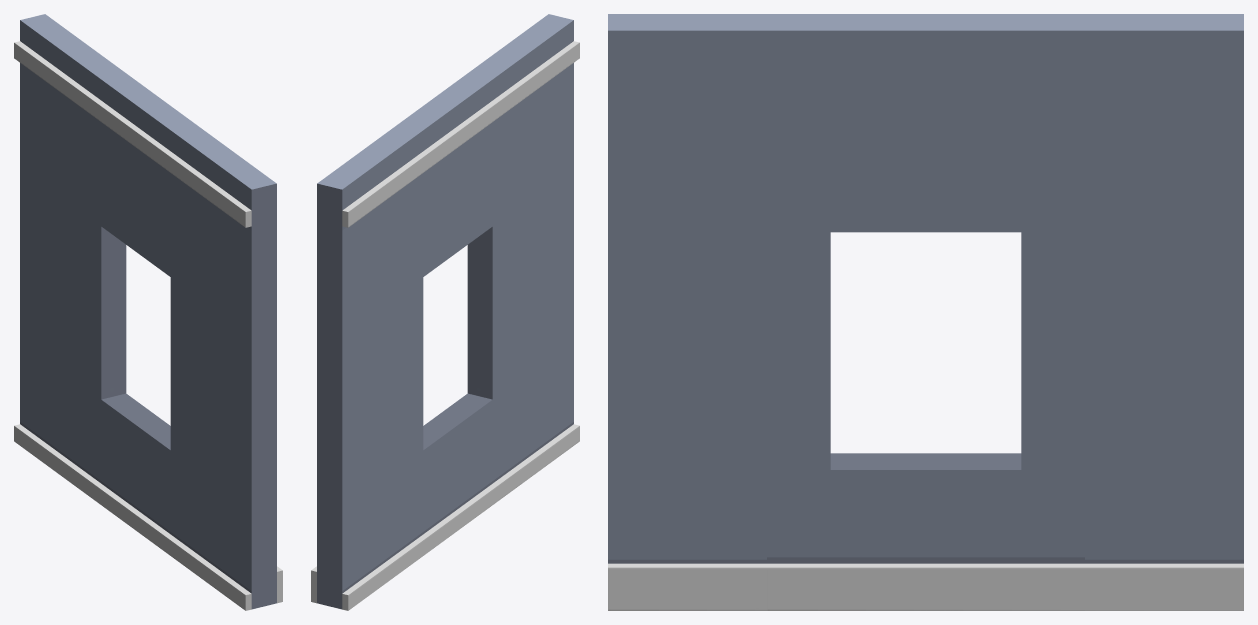
File: office_pack_demoRoom_wall_window_B.fbx
The picture shows the model from 3 angles, left to right: view 1: azimuth 30°, elevation 25°; view 2: azimuth 150°, elevation 25°; view 3: azimuth 270°, elevation 25°; orthographic projection. The views are drawn at different scales.
Visible parts, largest first — view 1: office_pack_demoRoom_wall_window_B; view 2: office_pack_demoRoom_wall_window_B; view 3: office_pack_demoRoom_wall_window_B.
Part boxes in pixels (left/top/right/bottom): office_pack_demoRoom_wall_window_B: left=14, top=14, right=282, bottom=610; office_pack_demoRoom_wall_window_B: left=311, top=14, right=579, bottom=610; office_pack_demoRoom_wall_window_B: left=608, top=14, right=1243, bottom=610.
Bounding box in the file's own units: 18.5 × 200 × 200.
